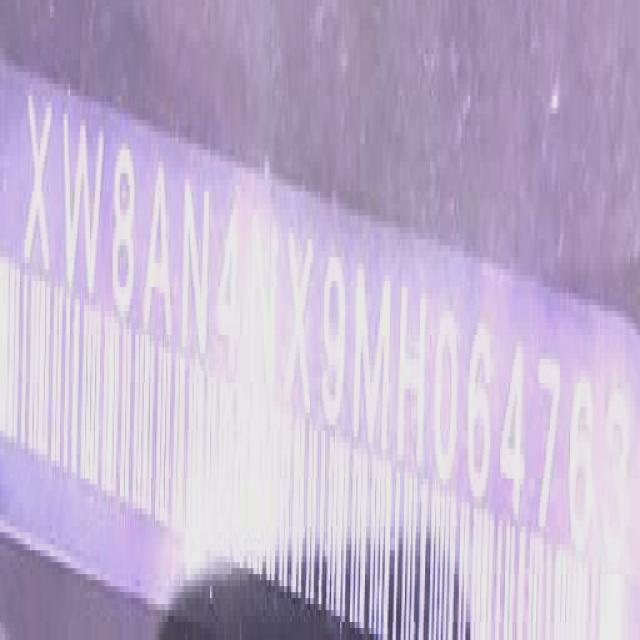0: (432, 302, 465, 489)
4: (214, 199, 246, 388), (500, 339, 530, 524)
6: (463, 320, 495, 506), (565, 370, 594, 547)
7: (534, 350, 566, 537)
8: (111, 141, 138, 323)
9: (602, 382, 636, 570), (320, 250, 346, 432)
A: (144, 169, 178, 347)
H: (395, 280, 431, 473)
M: (348, 252, 392, 458)
N: (181, 175, 215, 368), (248, 217, 278, 399)
W: (60, 106, 105, 300)
X: (23, 88, 56, 283), (285, 228, 315, 421)
